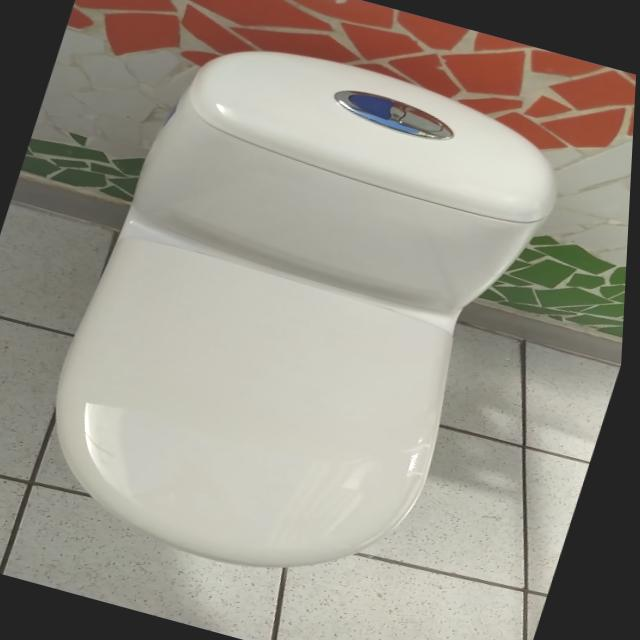toilet: (18, 16, 586, 617)
